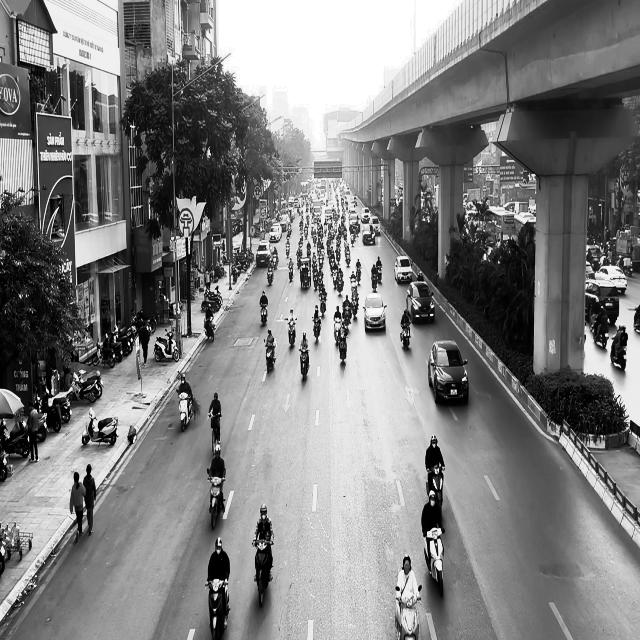car: (428, 339, 469, 404), (406, 280, 435, 324), (363, 292, 387, 332), (394, 256, 412, 284)
motorbike: (204, 578, 230, 640), (252, 535, 274, 608), (395, 584, 422, 639), (82, 406, 118, 446), (206, 468, 226, 529), (153, 328, 180, 362), (426, 464, 444, 510), (176, 391, 195, 432), (208, 411, 222, 454), (610, 335, 627, 370), (590, 317, 608, 348), (298, 347, 310, 381), (264, 338, 276, 372), (285, 318, 297, 347), (338, 328, 347, 363), (204, 315, 215, 342), (312, 315, 322, 343), (400, 321, 410, 349), (259, 301, 268, 324), (267, 262, 274, 284), (371, 272, 378, 292), (288, 262, 293, 282)
